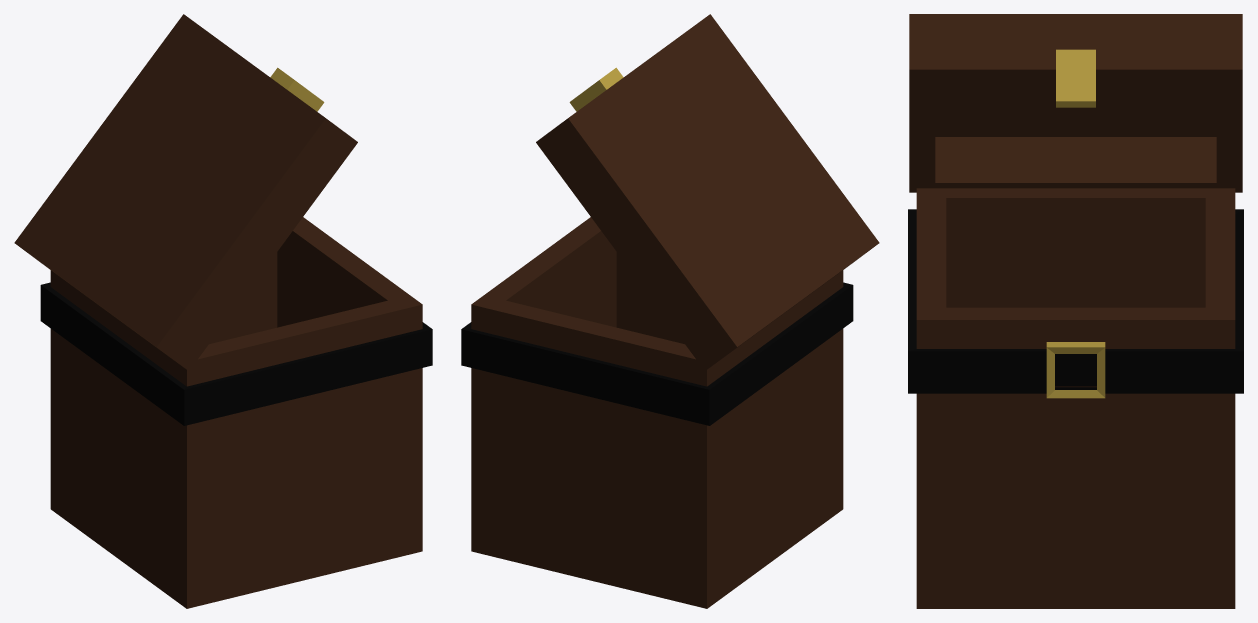
The model's file is ChestOpen.fbx.
The picture shows the model from 3 angles, left to right: view 1: azimuth 30°, elevation 25°; view 2: azimuth 150°, elevation 25°; view 3: azimuth 270°, elevation 25°; orthographic projection. The views are drawn at different scales.
Visible parts, largest first — view 1: Chest, OpenTop; view 2: Chest, OpenTop; view 3: Chest, OpenTop.
Part boxes in pixels (x1,y1,x2,y2): Chest: [40, 217, 432, 608]; OpenTop: [14, 14, 357, 370]; Chest: [461, 217, 853, 608]; OpenTop: [536, 14, 879, 370]; Chest: [908, 188, 1243, 608]; OpenTop: [909, 14, 1242, 192].
Size of the model in its own units: 240 by 372 by 211.
